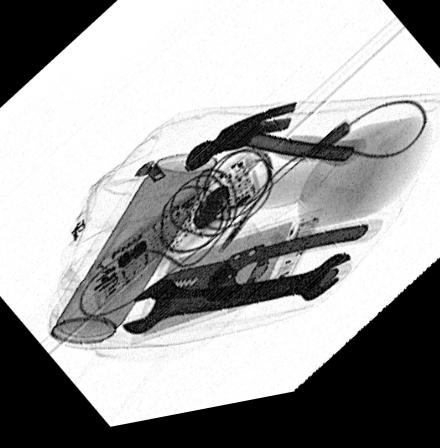Hammer: (183, 114, 368, 180)
Pliers: (148, 233, 382, 312)
Powerbank: (128, 220, 323, 350)
Wrench: (121, 265, 350, 339)
